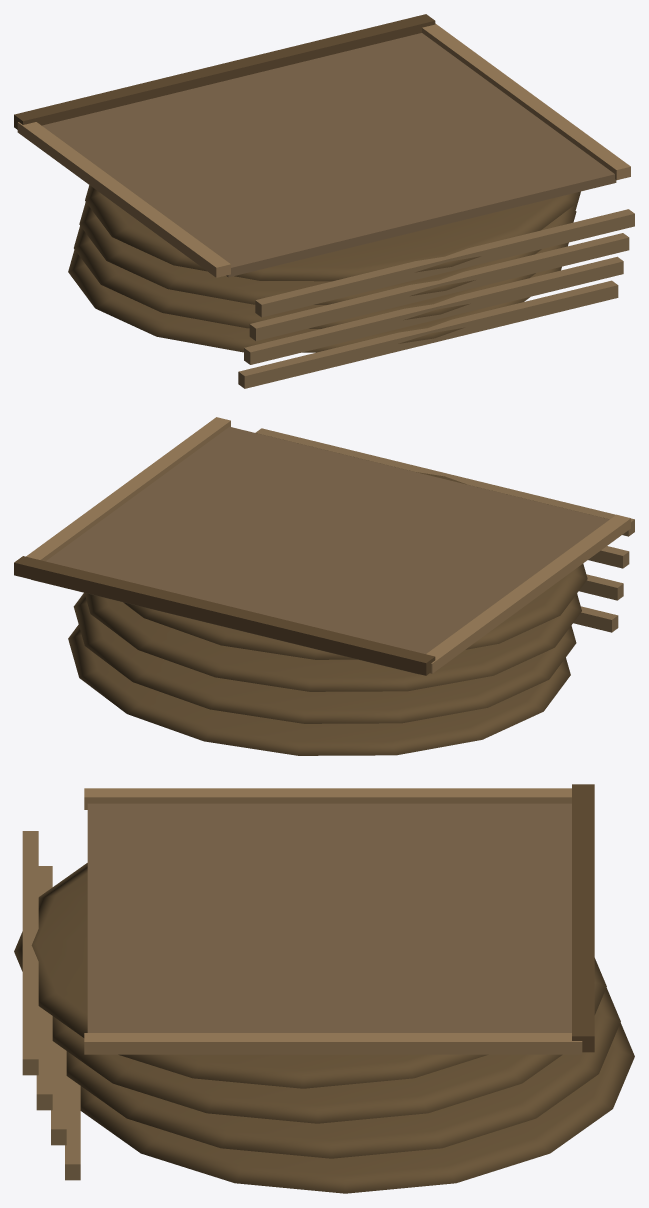
Rendered from CMU3DMaterialLeisureSandbagsEmptyCloud.glb.
The picture shows the model from 3 angles, top to bottom: view 1: azimuth 30°, elevation 25°; view 2: azimuth 150°, elevation 25°; view 3: azimuth 270°, elevation 25°; orthographic projection. The views are drawn at different scales.
Parts seen in each view (by area): view 1: top folded bag cloth, folded burlap body 3, folded mouth rear seam, folded seam 0, folded seam 2, folded seam 1, folded seam 3, folded burlap body 2, folded burlap body 1, folded burlap body 0, top bag stitched side, top bag stitched side member 2; view 2: top folded bag cloth, folded burlap body 1, folded burlap body 0, folded burlap body 2, folded mouth rear seam, folded burlap body 3, top bag stitched side, top bag stitched side member 2, folded seam 3, folded seam 0, folded seam 1, folded seam 2; view 3: top folded bag cloth, folded burlap body 0, folded burlap body 1, folded burlap body 2, folded burlap body 3, top bag stitched side member 2, top bag stitched side, folded mouth rear seam, folded seam 3, folded seam 2, folded seam 0, folded seam 1.
Part boxes in pixels (x1,y1,x2,y2): top folded bag cloth: (42, 33, 616, 277); folded burlap body 3: (85, 185, 579, 281); folded mouth rear seam: (14, 14, 435, 129); folded seam 0: (238, 280, 618, 388); folded seam 2: (249, 233, 629, 341); folded seam 1: (244, 256, 623, 364); folded seam 3: (255, 209, 634, 317); folded burlap body 2: (79, 191, 580, 304); folded burlap body 1: (74, 211, 576, 328); folded burlap body 0: (68, 242, 568, 352); top bag stitched side: (17, 122, 230, 277); top bag stitched side member 2: (422, 23, 630, 180); top folded bag cloth: (31, 426, 609, 674); folded burlap body 1: (73, 593, 576, 723); folded burlap body 0: (68, 624, 570, 755); folded burlap body 2: (84, 593, 581, 691); folded mouth rear seam: (14, 556, 435, 675); folded burlap body 3: (123, 472, 587, 659); top bag stitched side: (426, 514, 630, 673); top bag stitched side member 2: (26, 417, 230, 561); folded seam 3: (255, 428, 634, 536); folded seam 0: (573, 606, 618, 632); folded seam 1: (579, 574, 623, 600); folded seam 2: (588, 546, 629, 568); top folded bag cloth: (87, 803, 571, 1032); folded burlap body 0: (80, 1022, 634, 1193); folded burlap body 1: (66, 988, 620, 1158); folded burlap body 2: (52, 958, 606, 1123); folded burlap body 3: (14, 863, 488, 1088); top bag stitched side member 2: (84, 1033, 582, 1054); top bag stitched side: (84, 788, 571, 809); folded mouth rear seam: (572, 784, 594, 1052); folded seam 3: (22, 831, 38, 1075); folded seam 2: (36, 866, 52, 1110); folded seam 0: (65, 1076, 80, 1180); folded seam 1: (51, 1041, 66, 1145).
Size of the model in its own units: 0.37 by 0.105 by 0.354.
